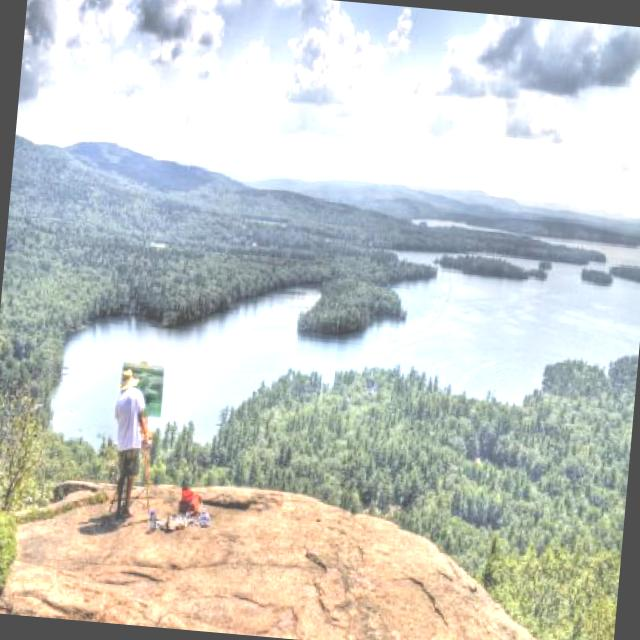Person: (95, 366, 149, 534)
